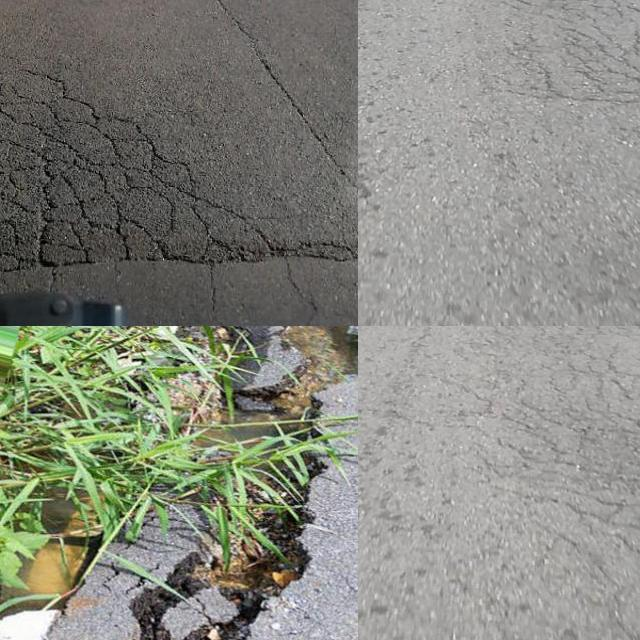Pinggir: (36, 326, 358, 640)
Retak Buaya: (0, 56, 290, 277), (455, 326, 640, 640), (497, 0, 640, 112)
